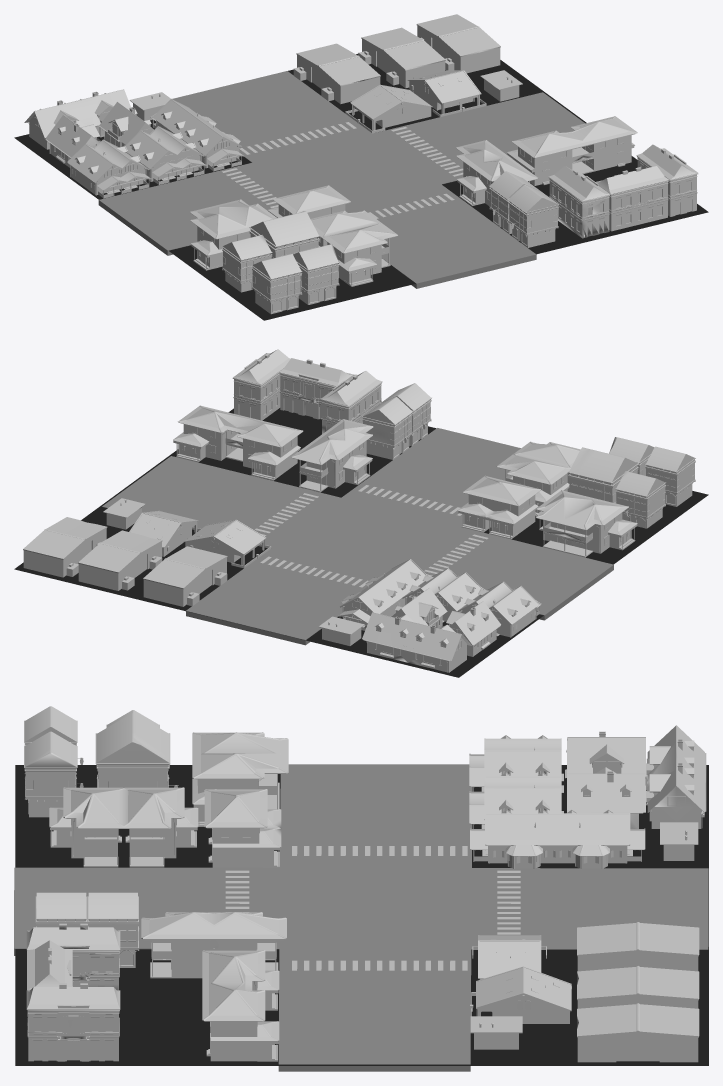
File: street.fbx
3 views of the same model, one above another, from view 1: azimuth 30°, elevation 25°; view 2: azimuth 150°, elevation 25°; view 3: azimuth 270°, elevation 25° (orthographic). The views are drawn at different scales.
Parts seen in each view (by area): view 1: Line002, Plane001, City_building_026, City_building_022, City_building_007, City_building_016, City_building_023, City_building_011, City_building_004, City_building_038, City_building_010, City_building_014 (+18 smaller); view 2: Line002, Plane001, City_building_026, City_building_038, City_building_033, City_building_034, City_building_037, City_building_007, City_building_011, City_building_023, City_building_022, City_building_014 (+18 smaller); view 3: Line002, Plane001, City_building_022, City_building_014, City_building_026, City_building_017, City_building_023, City_building_034, City_building_038, City_building_037, City_building_007, City_building_033 (+17 smaller).
Part boxes in pixels (<box>): Line002: <box>98,71,584,288</box>; Plane001: <box>14,54,708,320</box>; City_building_026: <box>507,116,637,185</box>; City_building_022: <box>310,210,397,286</box>; City_building_007: <box>293,43,380,104</box>; City_building_016: <box>596,166,668,231</box>; City_building_023: <box>416,14,500,73</box>; City_building_011: <box>358,27,445,88</box>; City_building_004: <box>67,139,151,198</box>; City_building_038: <box>190,199,276,270</box>; City_building_010: <box>548,166,610,238</box>; City_building_014: <box>150,98,243,171</box>; Line002: <box>102,428,613,645</box>; Plane001: <box>14,408,708,677</box>; City_building_026: <box>173,405,303,480</box>; City_building_038: <box>536,490,637,557</box>; City_building_033: <box>362,612,471,672</box>; City_building_034: <box>291,419,373,492</box>; City_building_037: <box>458,475,540,539</box>; City_building_007: <box>143,546,227,606</box>; City_building_011: <box>78,530,162,590</box>; City_building_023: <box>23,517,107,577</box>; City_building_022: <box>496,441,580,516</box>; City_building_014: <box>337,559,429,630</box>; Line002: <box>14,764,708,1071</box>; Plane001: <box>15,765,708,1065</box>; City_building_022: <box>49,787,198,867</box>; City_building_014: <box>470,809,645,868</box>; City_building_026: <box>202,950,279,1061</box>; City_building_017: <box>26,983,120,1061</box>; City_building_023: <box>577,1003,699,1062</box>; City_building_034: <box>141,912,286,978</box>; City_building_038: <box>192,732,288,826</box>; City_building_037: <box>204,789,281,867</box>; City_building_007: <box>577,922,699,971</box>; City_building_033: <box>645,725,706,828</box>.
Size of the model in its own units: 2495 by 354 by 2431.
